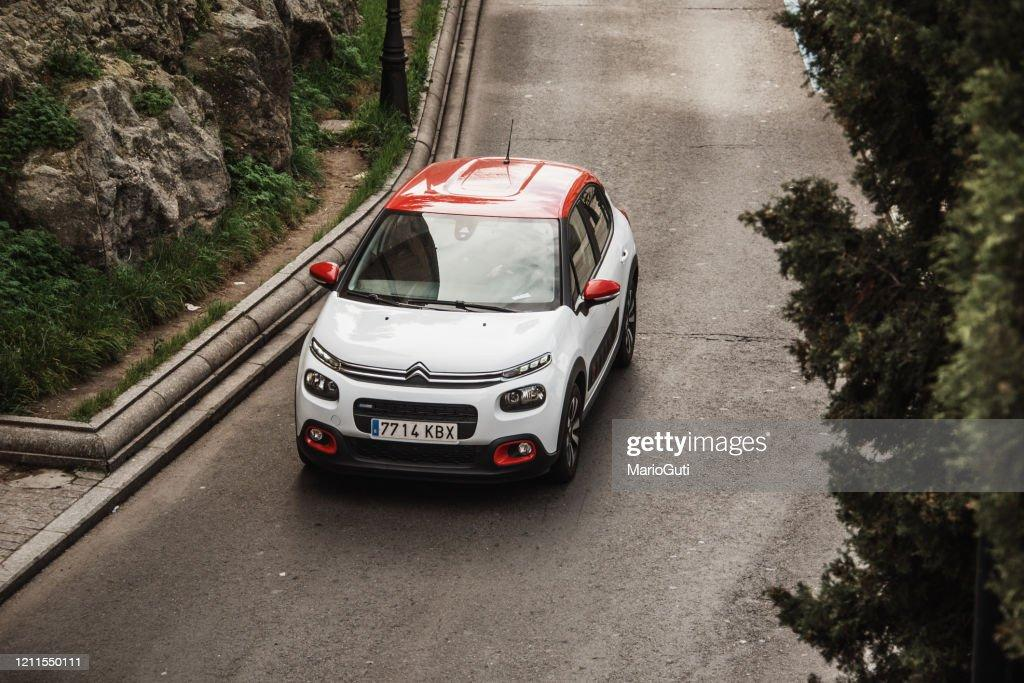Citroen: (390, 354, 450, 406)
